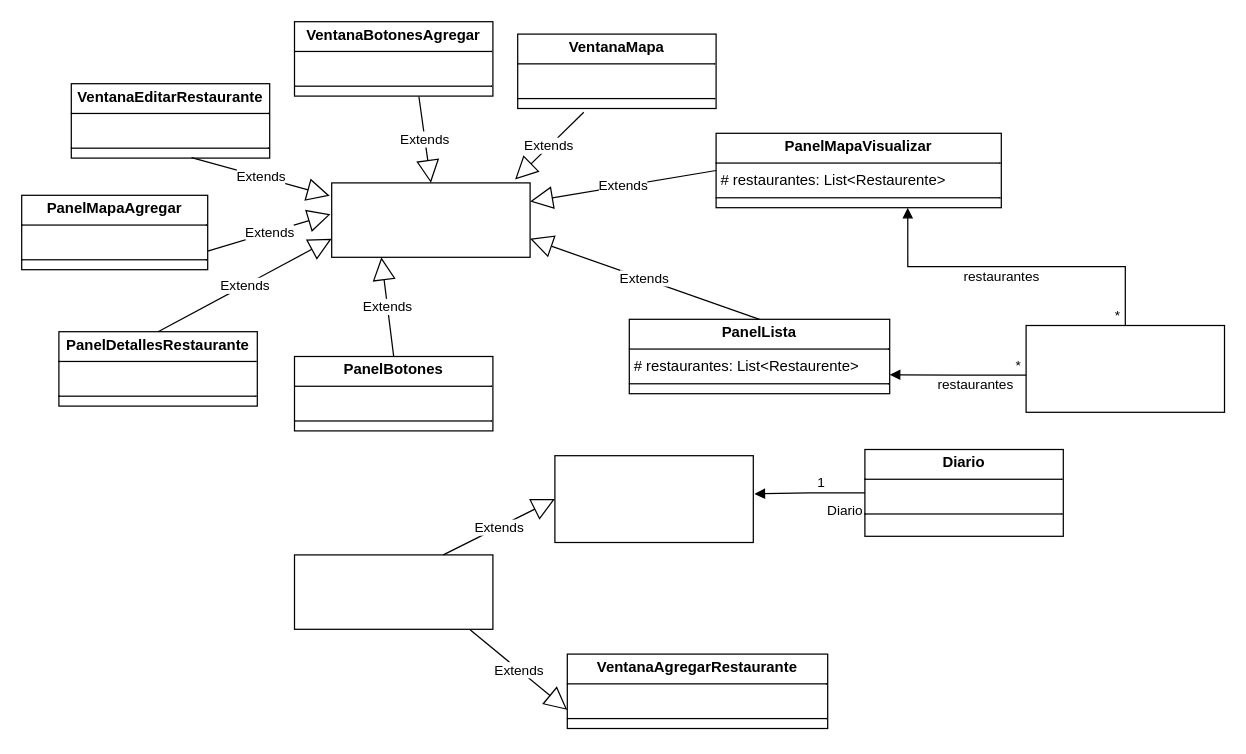
Some shapes in this 1246 by 754 pixel diagram are drawn without their labels. The centre of each missing label's shape, as x and y in pixels:
"JFrame" goes at [393,591].
"JPanel" goes at [430,219].
"Restaurante" goes at [1124,368].
"VentanaPrincipal # diario: Diario" goes at [653,498].
